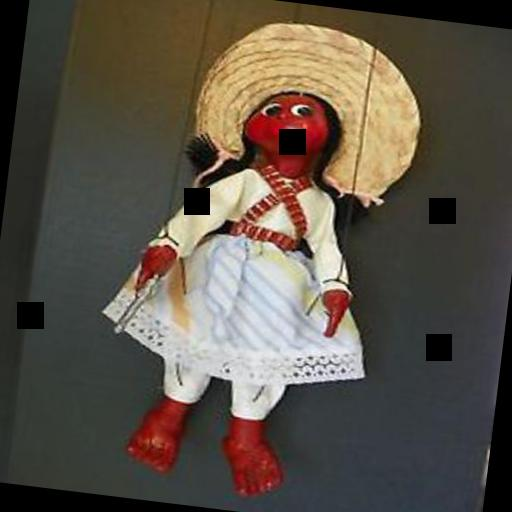Handgun: (106, 258, 168, 339)
